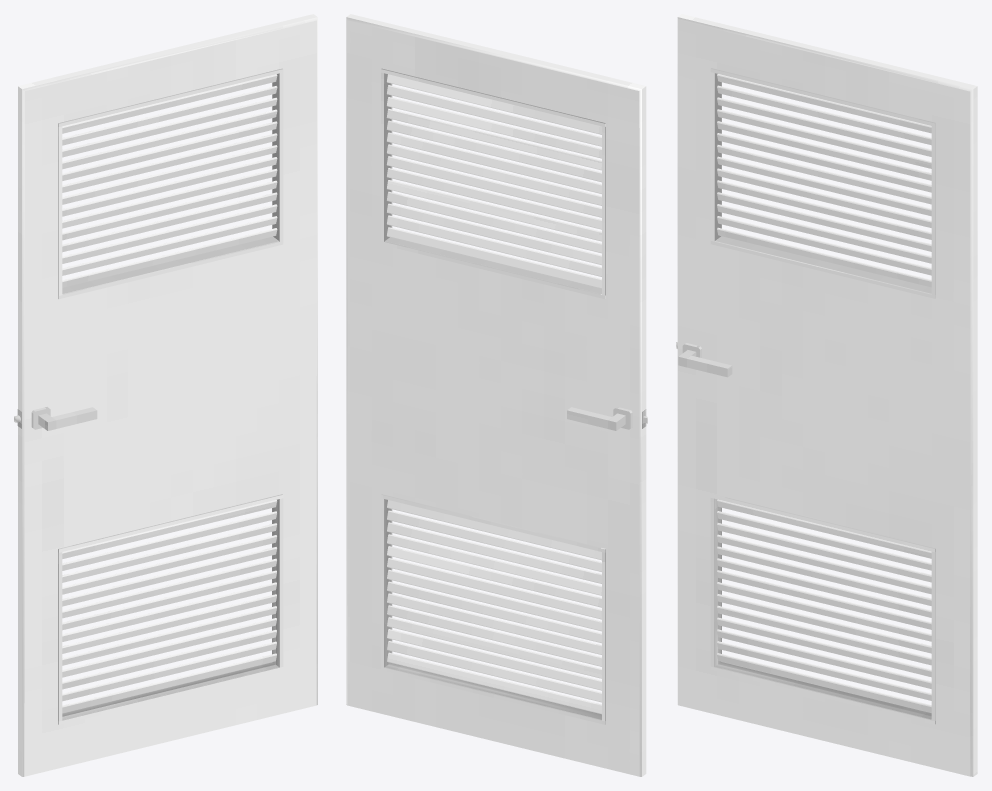
Rendered from DoorDoubleLouver.glb.
The picture shows the model from 3 angles, left to right: view 1: azimuth 30°, elevation 25°; view 2: azimuth 150°, elevation 25°; view 3: azimuth 330°, elevation 25°; orthographic projection.
Visible parts, largest first — view 1: DoorDoubleLouver; view 2: DoorDoubleLouver; view 3: DoorDoubleLouver.
Part boxes in pixels (box(x1,y1,x2,y2)): DoorDoubleLouver: box(14, 14, 317, 776); DoorDoubleLouver: box(346, 14, 647, 776); DoorDoubleLouver: box(676, 14, 977, 776).
Size of the model in its own units: 0.9286 by 2.03 by 0.1567.
1 material, 1 textured.
